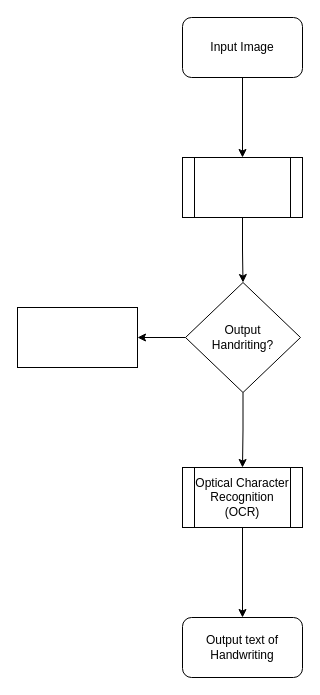
Image size: 320x695. Some labels were removed from this diagram. The box of each missing label's shape, as (x1, y1, x2, y2) in pixels:
Handwriting Detection: (182, 156, 302, 218)
No Result: (16, 306, 138, 368)
